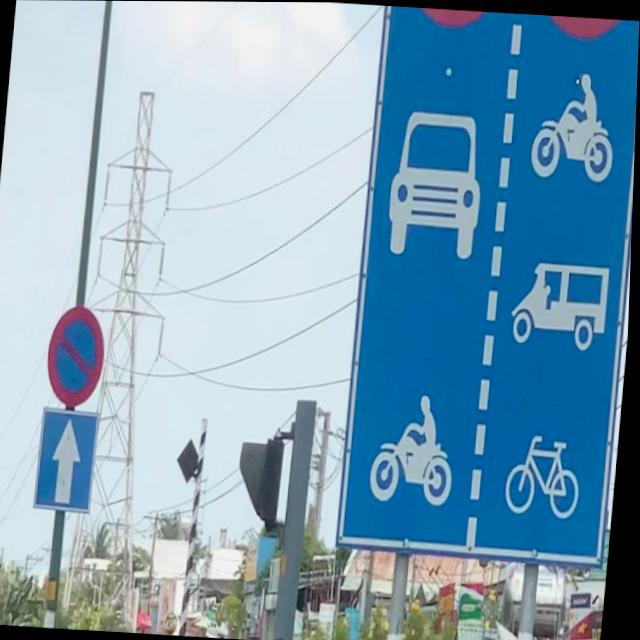Cam do xe: (47, 304, 112, 410)
Duong mot chieu: (35, 405, 106, 516)
